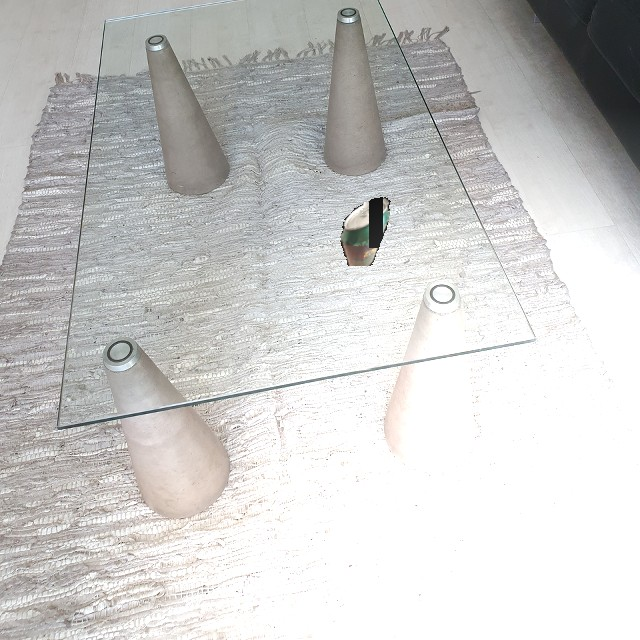schweppes: (330, 194, 398, 266)
